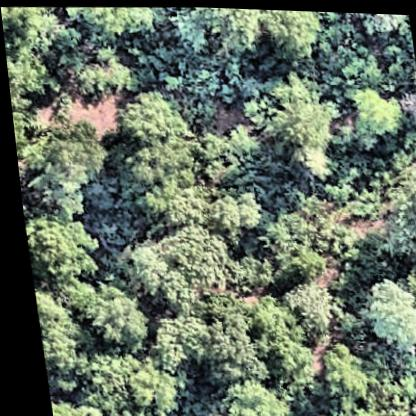tree-top: (98, 86, 209, 232), (114, 219, 233, 316), (167, 5, 332, 66), (10, 117, 113, 211), (237, 79, 341, 159), (60, 347, 175, 416), (185, 309, 268, 389), (27, 282, 89, 387), (1, 6, 74, 94), (239, 304, 314, 382), (364, 157, 416, 266), (347, 273, 416, 354), (20, 223, 100, 281), (277, 276, 340, 346), (62, 4, 164, 46), (75, 289, 144, 351), (260, 212, 325, 273), (191, 376, 288, 416), (136, 310, 199, 368), (345, 78, 397, 143), (209, 177, 264, 234), (309, 345, 363, 398), (228, 253, 274, 293), (359, 10, 408, 47), (42, 398, 102, 416)
